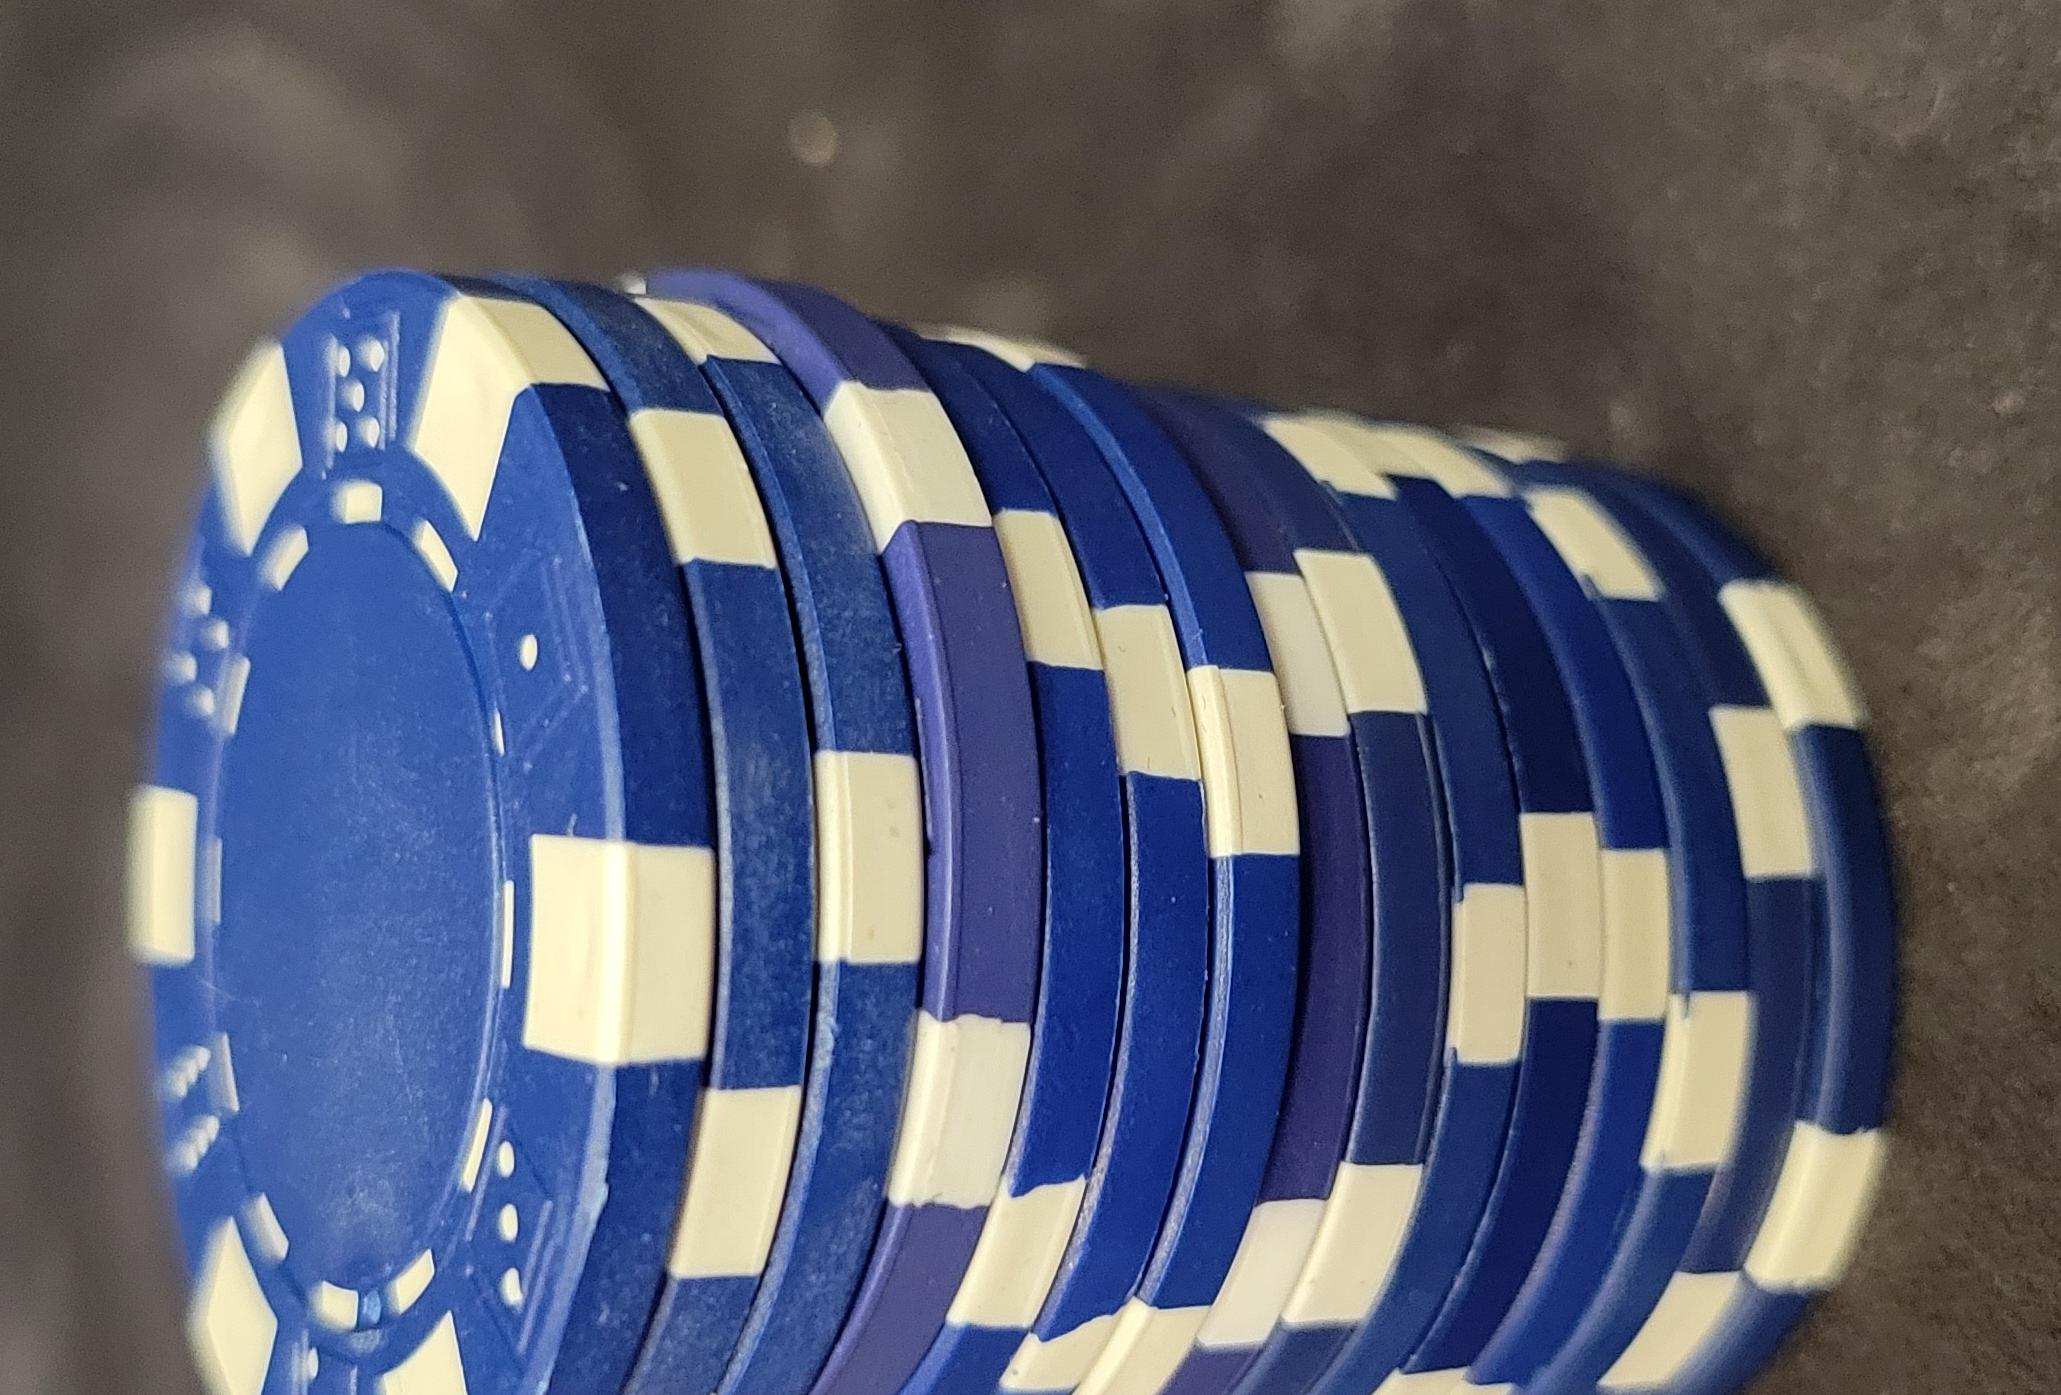Chip: (2, 230, 1326, 1395)
